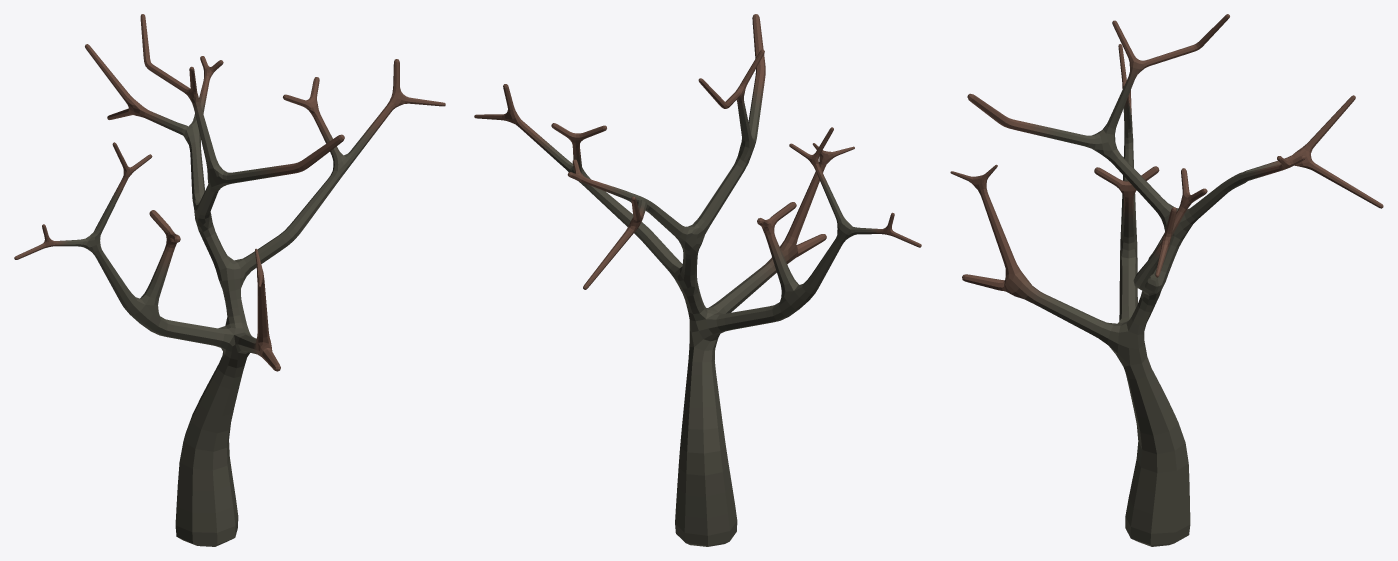
File: tree_dead_1.fbx
The picture shows the model from 3 angles, left to right: view 1: azimuth 30°, elevation 25°; view 2: azimuth 150°, elevation 25°; view 3: azimuth 270°, elevation 25°; orthographic projection. The views are drawn at different scales.
Parts seen in each view (by area): view 1: tree_dead_1; view 2: tree_dead_1; view 3: tree_dead_1.
Boxes of the visible parts, x1,y1,x2,y2 form: tree_dead_1: (14,14,445,546); tree_dead_1: (474,14,921,546); tree_dead_1: (950,14,1383,546).
Bounding box in the file's own units: 799 × 869 × 668.
